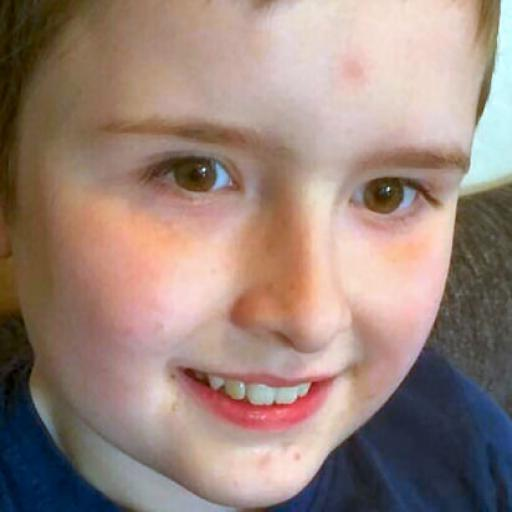Autism: (10, 8, 512, 492)
